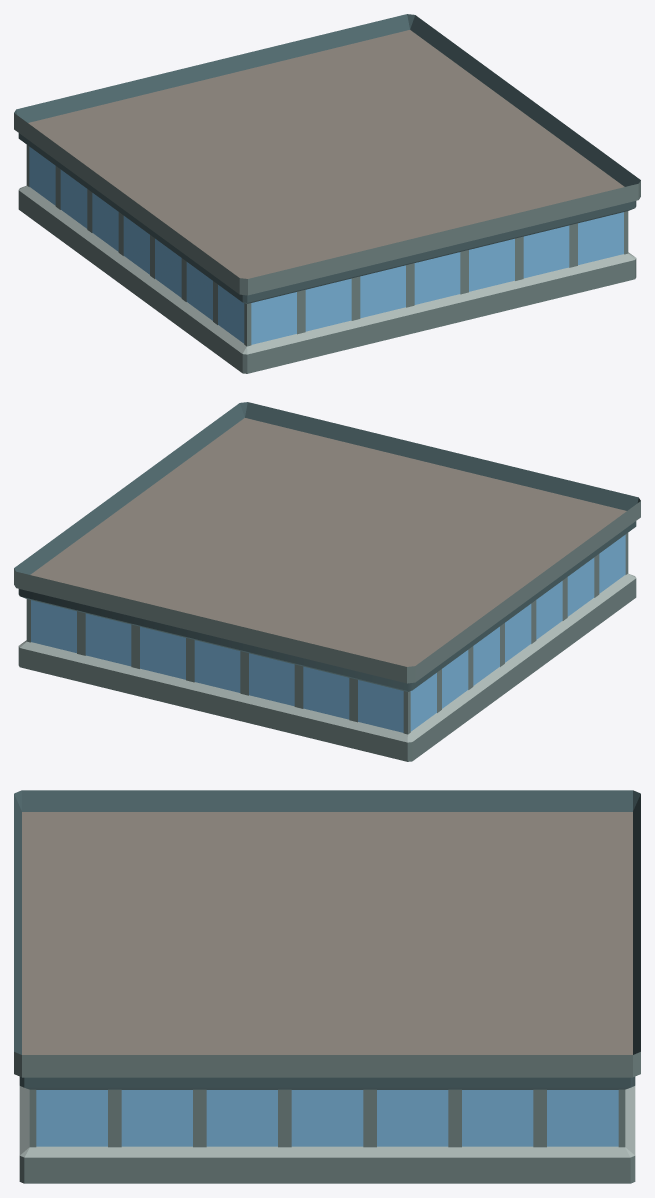
File: Building_Roof.fbx
3 views of the same model, one above another, from view 1: azimuth 30°, elevation 25°; view 2: azimuth 150°, elevation 25°; view 3: azimuth 270°, elevation 25° (orthographic). The views are drawn at different scales.
Visible parts, largest first — view 1: Building_roof; view 2: Building_roof; view 3: Building_roof.
Part boxes in pixels (box(x1,y1,x2,y2)): Building_roof: box(14, 14, 640, 373); Building_roof: box(14, 402, 640, 761); Building_roof: box(14, 790, 640, 1183).
Size of the model in its own units: 651 by 150 by 651.
